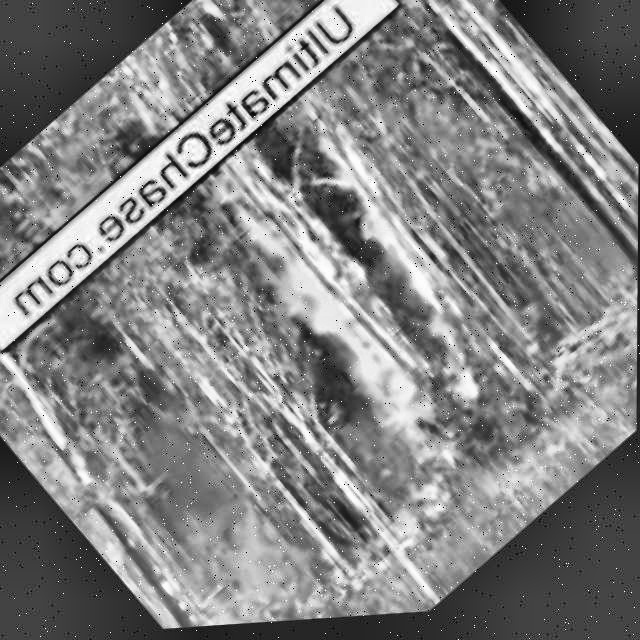Fire: (171, 77, 544, 496), (343, 463, 488, 605), (92, 23, 220, 156)
